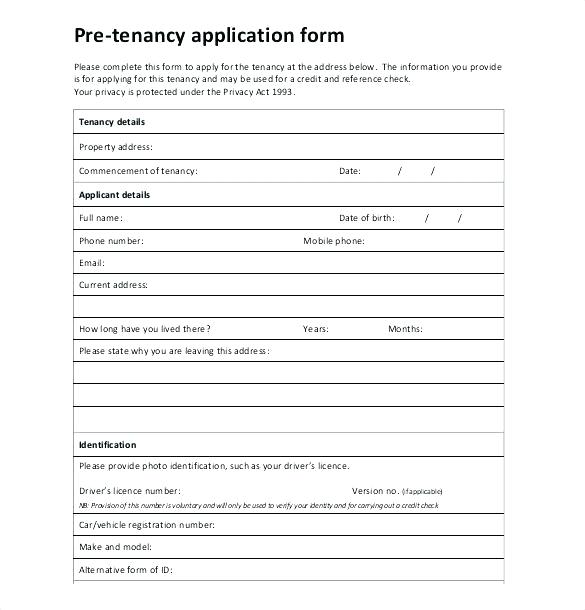textbox: (69, 452, 508, 515), (70, 130, 506, 161), (70, 532, 507, 561), (70, 313, 508, 341), (71, 555, 507, 583), (69, 248, 508, 275), (69, 293, 508, 320), (71, 204, 508, 231), (70, 337, 506, 364), (71, 510, 507, 537), (68, 272, 507, 298), (70, 228, 507, 253), (70, 160, 509, 183), (429, 160, 507, 184), (455, 201, 507, 232), (422, 200, 465, 232), (394, 201, 433, 230), (395, 158, 436, 184), (363, 159, 397, 183)
